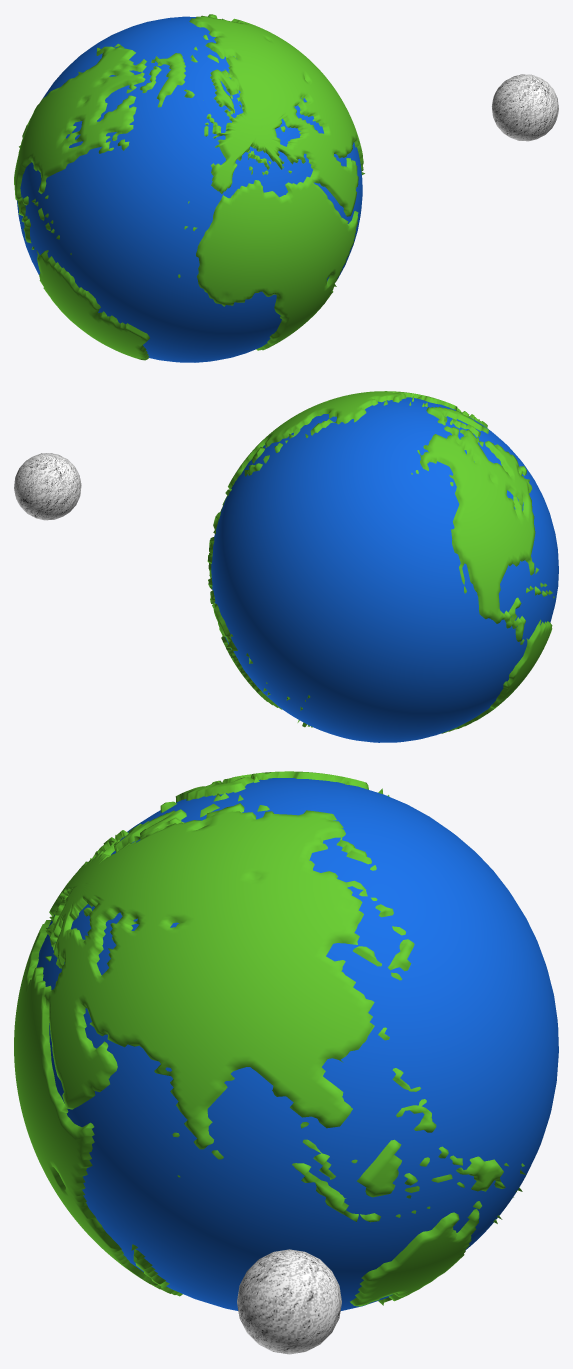
File: sample(object).glb
3 renders of one model, top to bottom at view 1: azimuth 30°, elevation 25°; view 2: azimuth 150°, elevation 25°; view 3: azimuth 270°, elevation 25°, orthographic. The views are drawn at different scales.
Visible parts, largest first — view 1: earth, moon; view 2: earth, moon; view 3: earth, moon.
Boxes of the visible parts, bbox=[...] form: earth: bbox=[14, 14, 364, 362]; moon: bbox=[491, 74, 558, 141]; earth: bbox=[207, 391, 558, 742]; moon: bbox=[14, 453, 81, 520]; earth: bbox=[14, 771, 558, 1310]; moon: bbox=[237, 1249, 341, 1354].
Size of the model in its own units: 3.54 by 2.09 by 2.07.
Materials: 3 (1 with a texture image).
